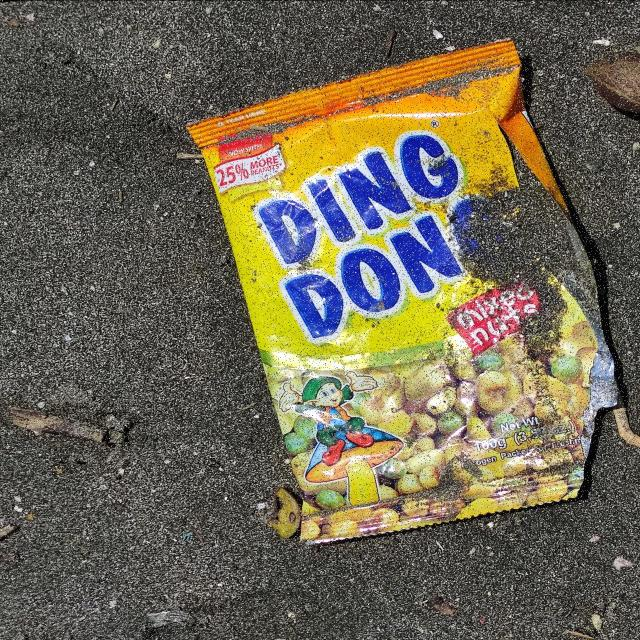plastic_waste: (188, 38, 622, 546)
